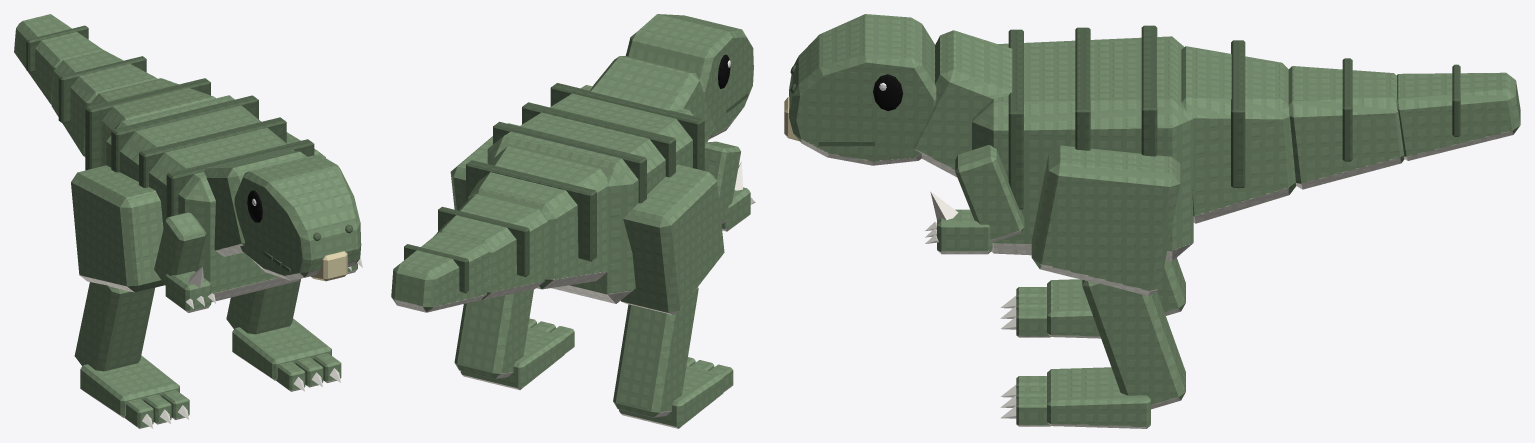
Rendered from 04_Iguanodon.glb.
3 views of the same model, side by side, from view 1: azimuth 30°, elevation 25°; view 2: azimuth 150°, elevation 25°; view 3: azimuth 270°, elevation 25° (orthographic). The views are drawn at different scales.
Visible parts, largest first — view 1: 04_Iguanodon; view 2: 04_Iguanodon; view 3: 04_Iguanodon.
Boxes of the visible parts, x1,y1,x2,y2 form: 04_Iguanodon: [14, 14, 362, 428]; 04_Iguanodon: [391, 14, 755, 428]; 04_Iguanodon: [784, 14, 1520, 428].
Bounding box in the file's own units: 4.24 × 5.32 × 10.62.
1 material, 1 textured.
